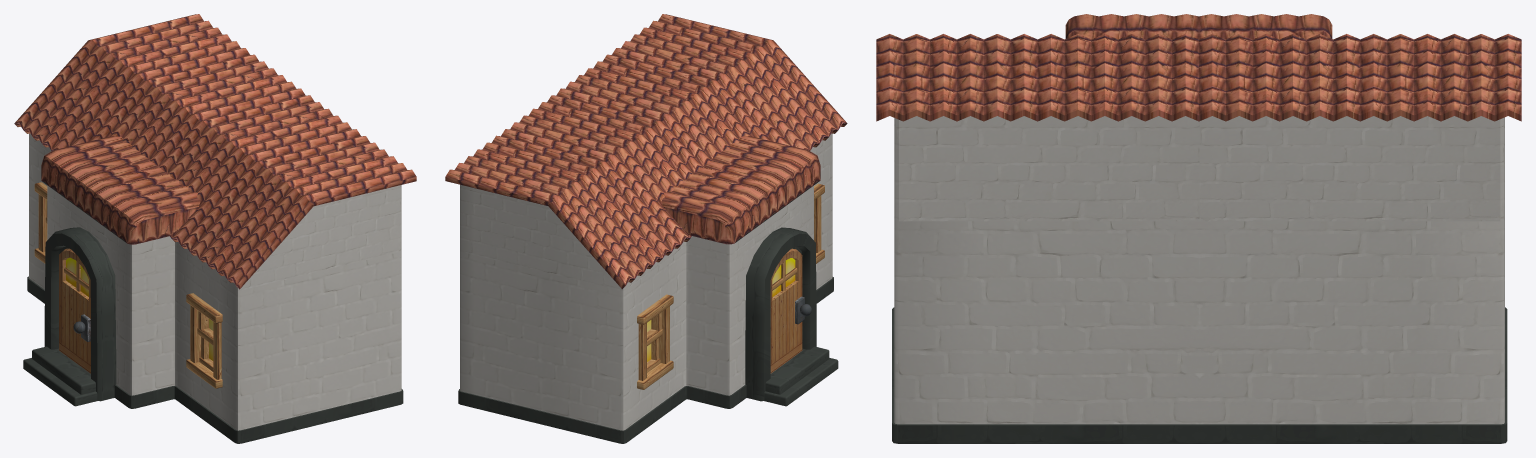
File: House1.FBX
3 renders of one model, left to right at view 1: azimuth 30°, elevation 25°; view 2: azimuth 150°, elevation 25°; view 3: azimuth 270°, elevation 25°, orthographic. The views are drawn at different scales.
Visible parts, largest first — view 1: Box003, Object002, Object003, Object001, ChamferBox003, Object004, Object005; view 2: Box003, Object002, Object003, Object001, ChamferBox003, Object005, Object004; view 3: Box003, Object002, Object003.
Part boxes in pixels (left/top/right/bottom): Box003: left=27, top=133, right=403, bottom=443; Object002: left=14, top=14, right=416, bottom=289; Object003: left=41, top=136, right=200, bottom=244; Object001: left=44, top=227, right=116, bottom=401; ChamferBox003: left=23, top=346, right=97, bottom=406; Object004: left=186, top=293, right=222, bottom=388; Object005: left=34, top=182, right=47, bottom=263; Box003: left=458, top=133, right=833, bottom=443; Object002: left=445, top=14, right=847, bottom=289; Object003: left=661, top=136, right=820, bottom=244; Object001: left=745, top=227, right=816, bottom=401; ChamferBox003: left=764, top=346, right=838, bottom=406; Object005: left=637, top=294, right=673, bottom=389; Object004: left=814, top=183, right=824, bottom=263; Box003: left=892, top=116, right=1507, bottom=443; Object002: left=876, top=34, right=1521, bottom=121; Object003: left=1065, top=14, right=1332, bottom=39.
Bounding box in the file's own units: 163 × 141 × 243.
